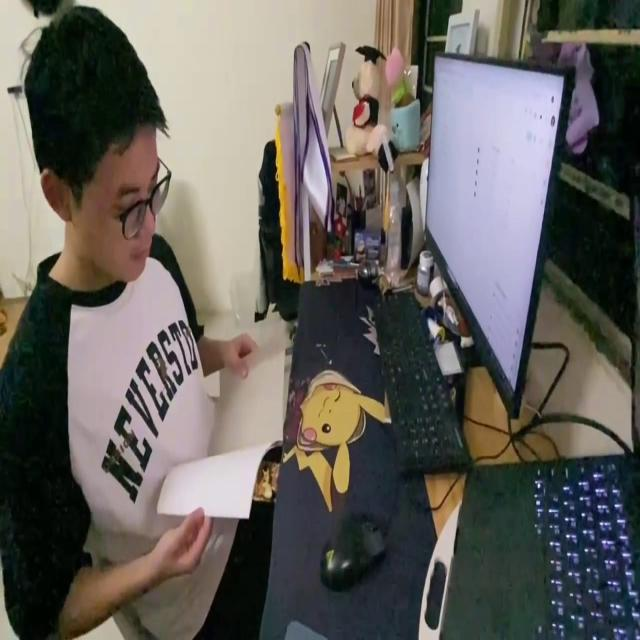book: (155, 331, 285, 530)
laptop: (421, 46, 576, 423), (435, 449, 640, 640)
student: (0, 3, 271, 640)
